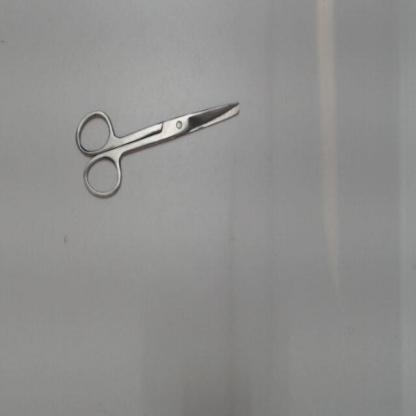Dressing Scissors: (64, 90, 248, 216)
